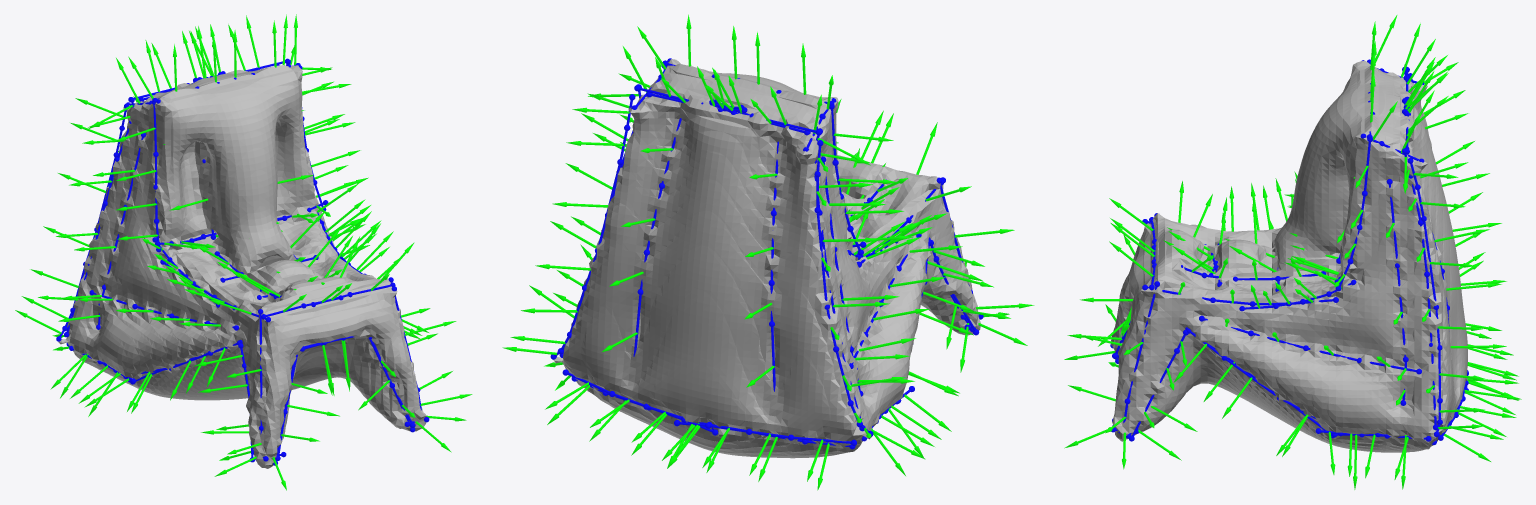
File: author1_chair_ff.gltf
3 views of the same model, side by side, from view 1: azimuth 30°, elevation 25°; view 2: azimuth 150°, elevation 25°; view 3: azimuth 270°, elevation 25° (orthographic). The views are drawn at different scales.
Bounding box in the file's own units: 0.6929 × 0.7113 × 0.7792.
